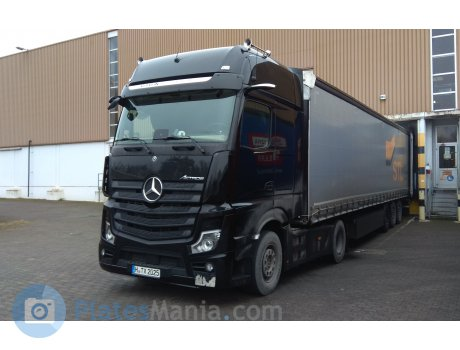License Plates: (124, 262, 160, 273)
